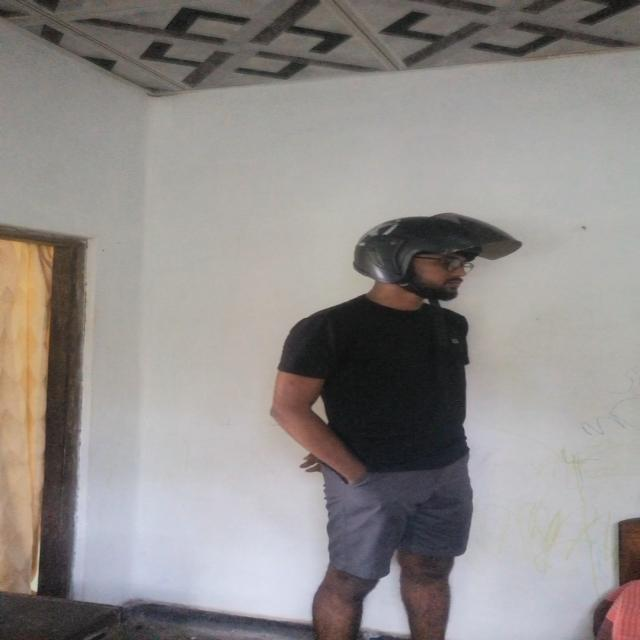Helmet_Wearer: (342, 204, 526, 319)
Person: (273, 211, 533, 640)
